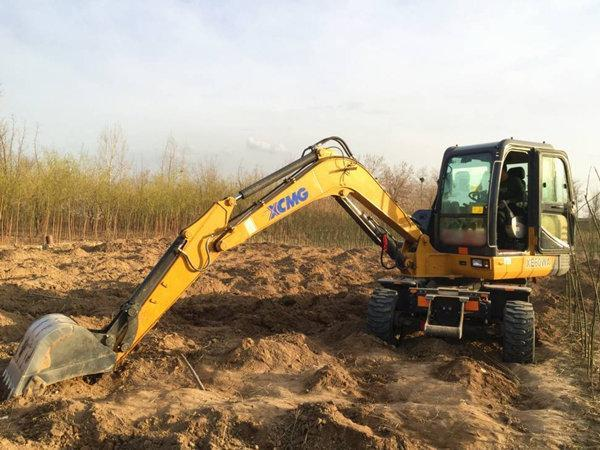excavator: (9, 143, 566, 370)
